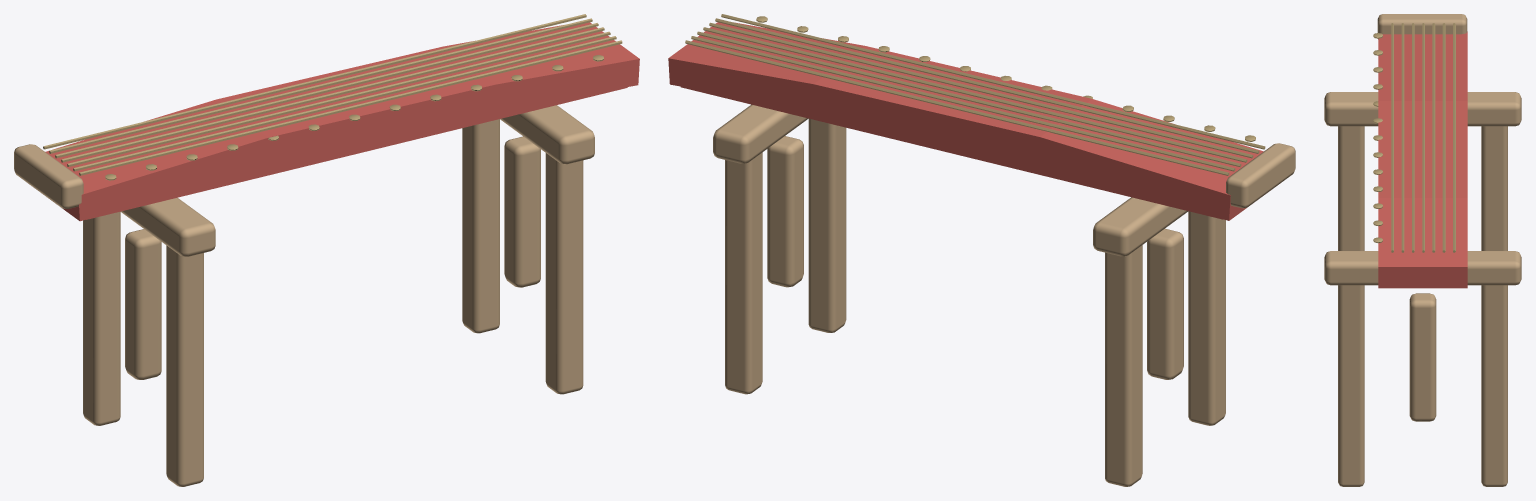
Rendered from guqin.glb.
3 views of the same model, side by side, from view 1: azimuth 30°, elevation 25°; view 2: azimuth 150°, elevation 25°; view 3: azimuth 270°, elevation 25° (orthographic). The views are drawn at different scales.
Parts seen in each view (by area): view 1: guqin-on-stand; view 2: guqin-on-stand; view 3: guqin-on-stand.
Boxes of the visible parts, x1,y1,x2,y2 form: guqin-on-stand: (14,14,639,486); guqin-on-stand: (668,14,1295,486); guqin-on-stand: (1324,14,1521,486).
Bounding box in the file's own units: 1.28 × 0.6599 × 0.4399.
